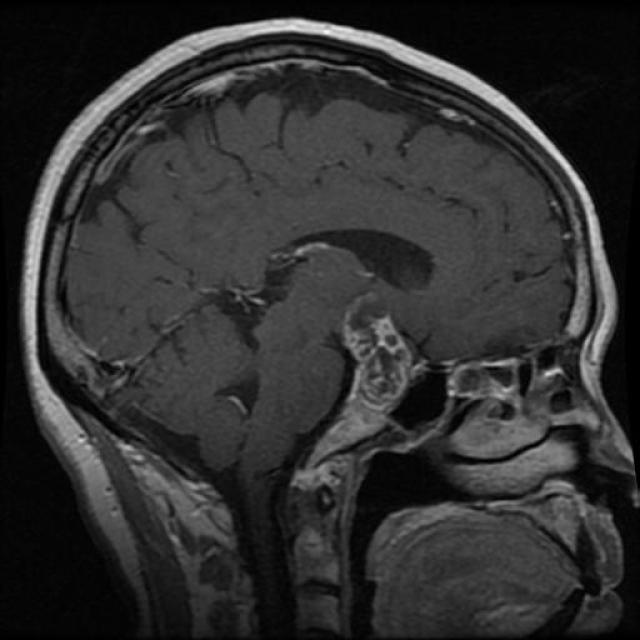pituitary: (330, 288, 420, 409)
